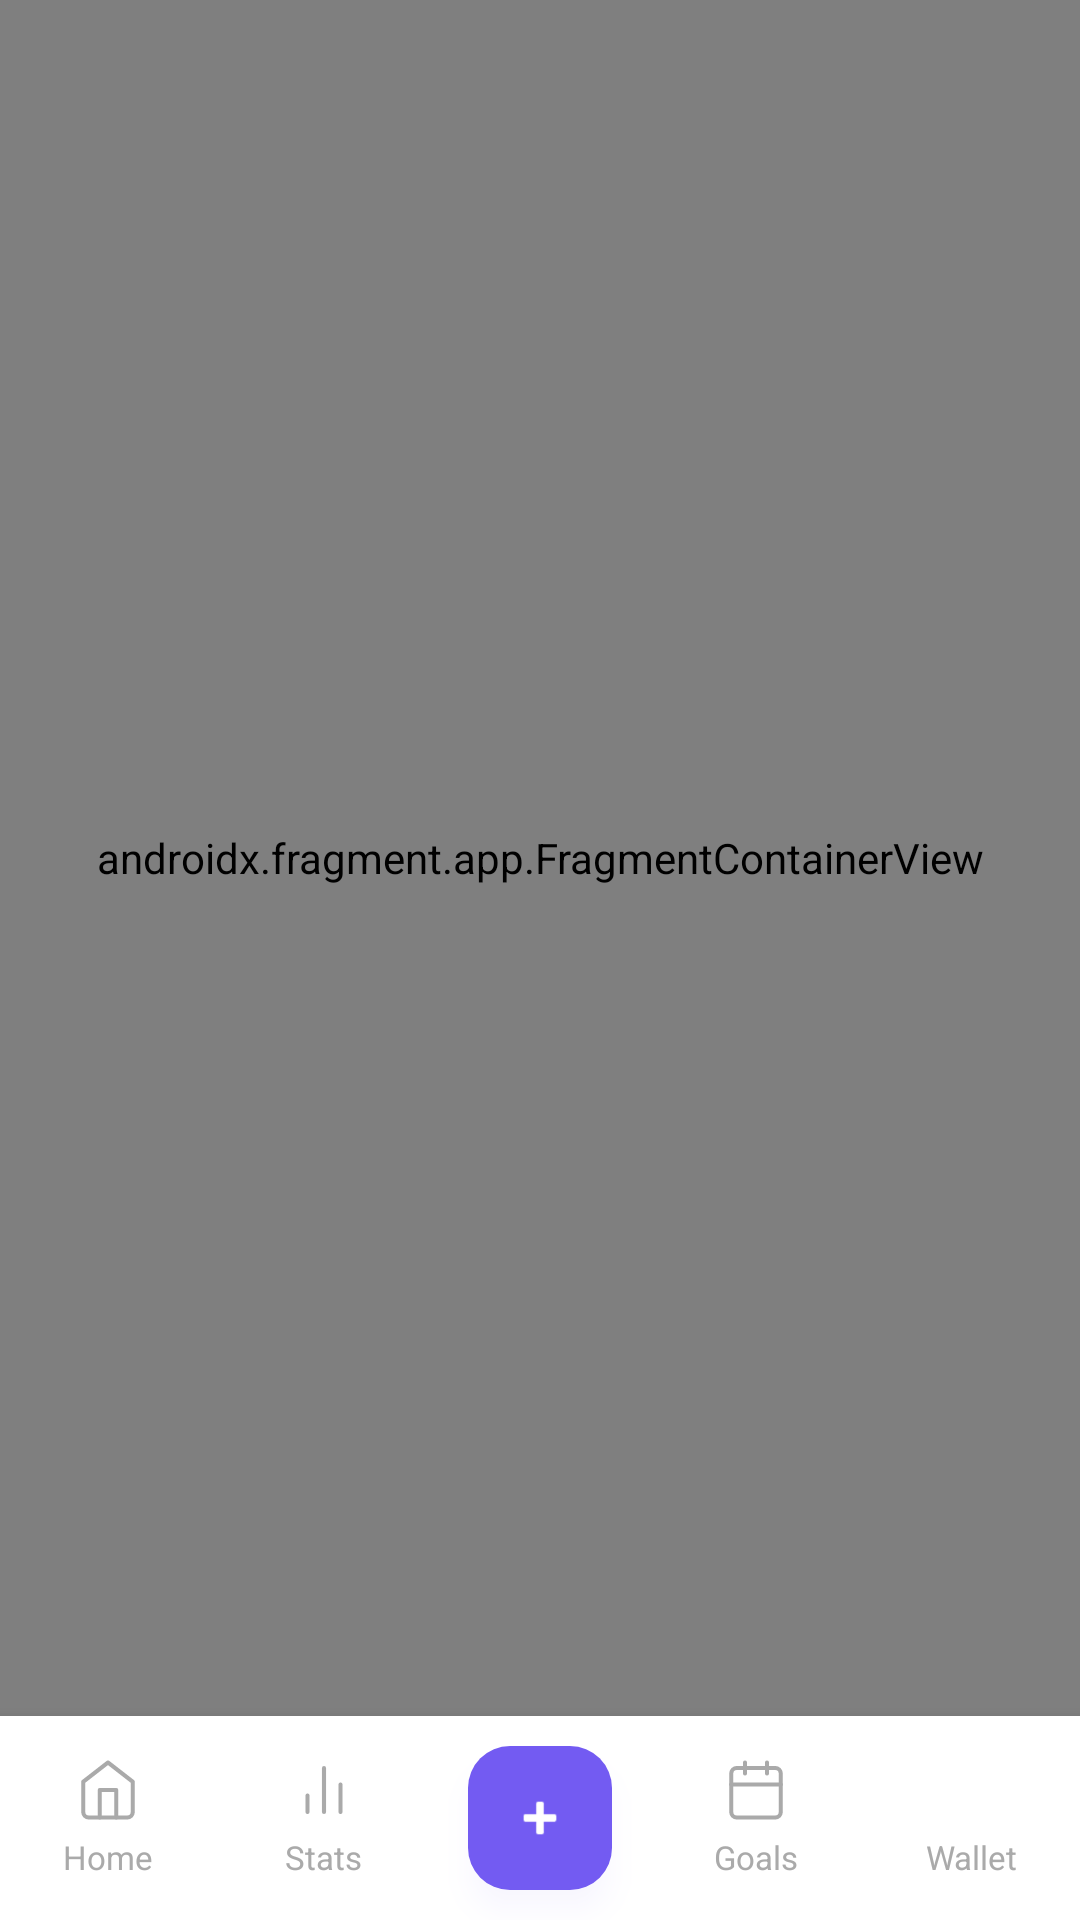

Named icons in this screenshot (1080x1920) and their centers, (x=x, y=y):
Add transaction: (x=540, y=1818)
